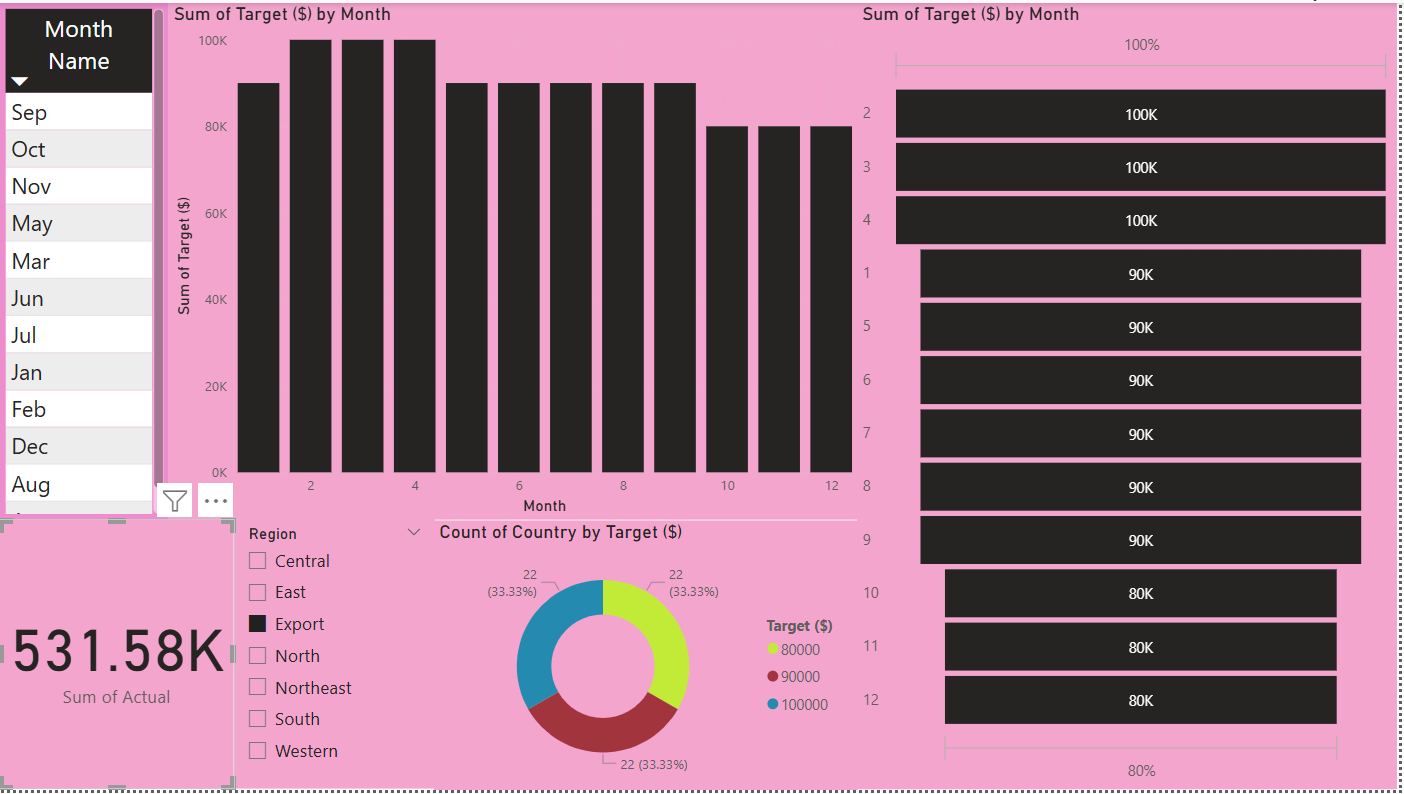

What the dashboard file says about the page in this screenshot:
{"tool":"powerbi","page":{"name":"Page 1","canvas":[1280,720],"ordinal":0},"visuals":[{"type":"tableEx","fields":{"Values":["TargetData.Month Name"]},"box":[0,0,155.4,472.6],"z":0},{"type":"card","fields":{"Values":["Sum(InputData.Actual)"]},"box":[0,472.6,215,246.9],"z":1000},{"type":"slicer","fields":{"Values":["Country.Region"]},"box":[215,472.6,183.1,246.9],"z":2000},{"type":"lineStackedColumnComboChart","fields":{"Category":["TargetData.Month"],"Y":["Sum(TargetData.Target ($))"]},"box":[155.4,0,630.1,472.6],"z":3000},{"type":"donutChart","fields":{"Category":["TargetData.Target ($)"],"Y":["CountNonNull(Country.Country)"]},"box":[398,473,387,247],"z":4000},{"type":"funnel","fields":{"Category":["TargetData.Month"],"Y":["Sum(TargetData.Target ($))"]},"box":[785.5,0,493.8,719.5],"z":5000}]}

Visuals, with their boxes in screenshot pixels (x1, y1, x2, y2), scaled from the page's 1280x720 canvas onto the 1404x794 screenshot:
tableEx - TargetData.Month Name: 0, 0, 170, 521
card - Sum(InputData.Actual): 0, 521, 236, 793
slicer - Country.Region: 236, 521, 437, 793
lineStackedColumnComboChart - TargetData.Month x Sum(TargetData.Target ($)): 170, 0, 862, 521
donutChart - TargetData.Target ($) x CountNonNull(Country.Country): 437, 522, 861, 793
funnel - TargetData.Month x Sum(TargetData.Target ($)): 862, 0, 1403, 793
